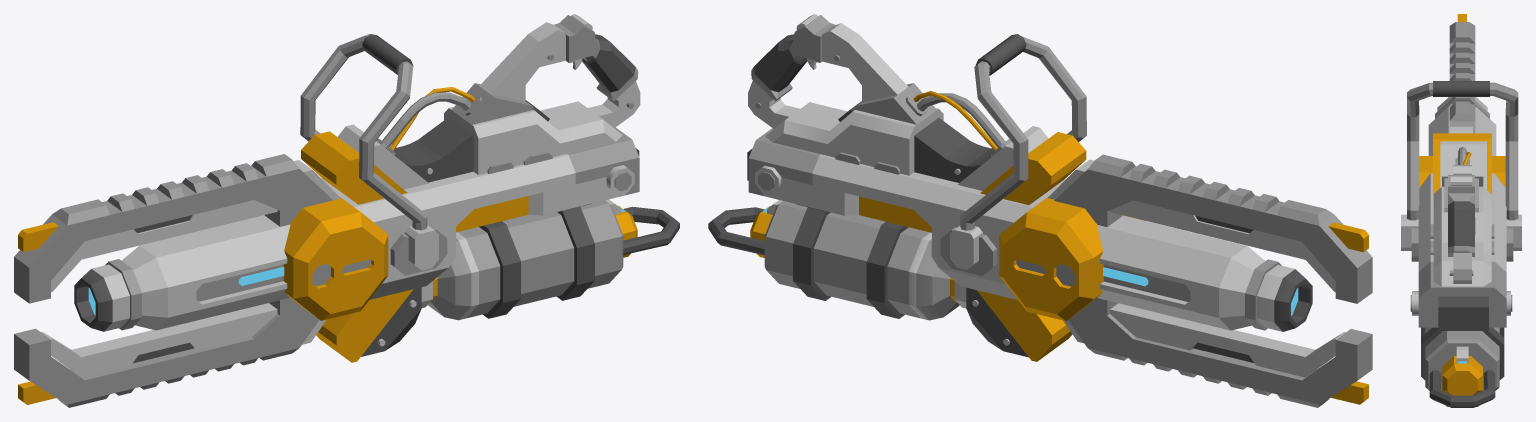
The picture shows the model from 3 angles, left to right: view 1: azimuth 30°, elevation 25°; view 2: azimuth 150°, elevation 25°; view 3: azimuth 270°, elevation 25°; orthographic projection. The views are drawn at different scales.
Parts seen in each view (by area): view 1: SM_FT01, SM_FT01_Cylinder; view 2: SM_FT01, SM_FT01_Cylinder; view 3: SM_FT01, SM_FT01_Cylinder.
Part boxes in pixels (x1,y1,x2,y2): SM_FT01: [14, 14, 640, 407]; SM_FT01_Cylinder: [428, 199, 679, 320]; SM_FT01: [747, 14, 1372, 407]; SM_FT01_Cylinder: [708, 200, 959, 320]; SM_FT01: [1401, 14, 1521, 330]; SM_FT01_Cylinder: [1421, 327, 1504, 407].
Size of the model in its own units: 100 by 42.86 by 19.08.
